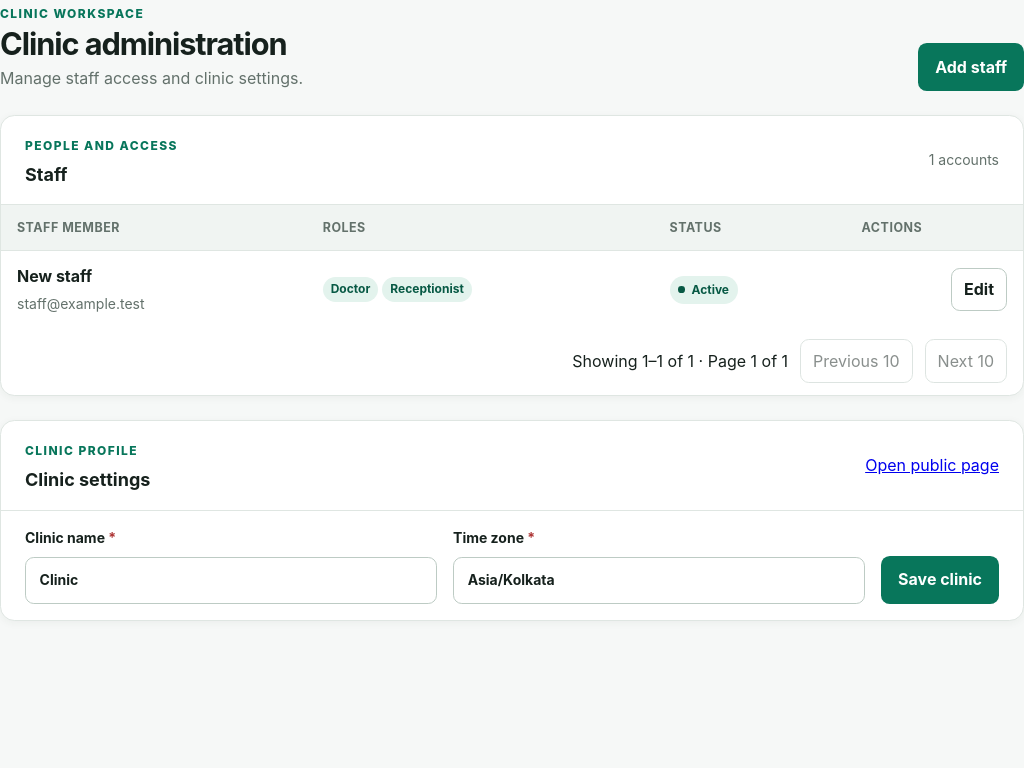
it: opens the staff editor with heading focus and restores focus when cancelled
This screenshot has width=1024, height=768.
Click the button "Add staff" at [971, 67], box x1=918 y1=43 x2=1023 y2=91
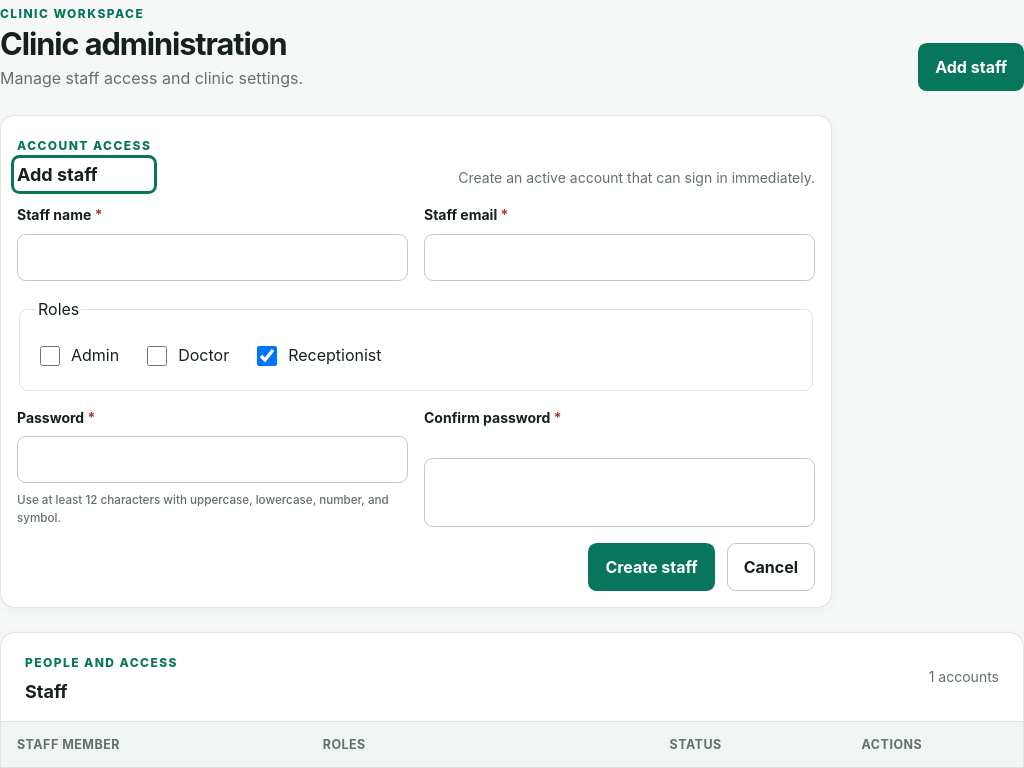
Click the button "Cancel" at [771, 567], box x1=727 y1=543 x2=815 y2=591
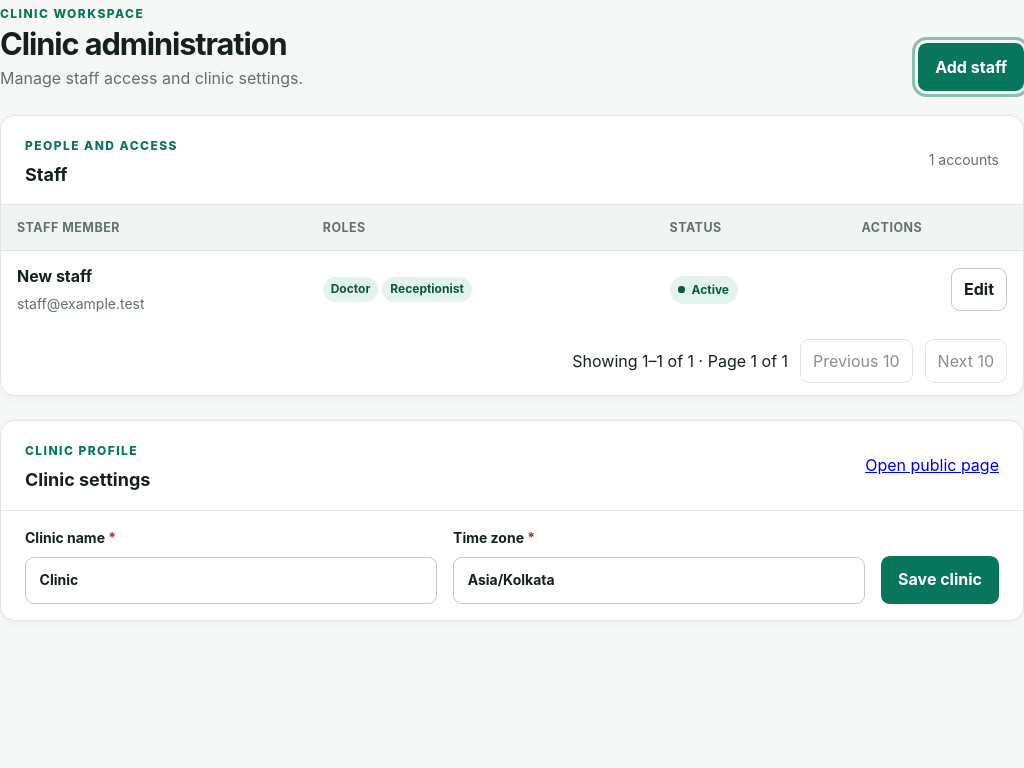
Check: the label labelled "Staff name" is gone
